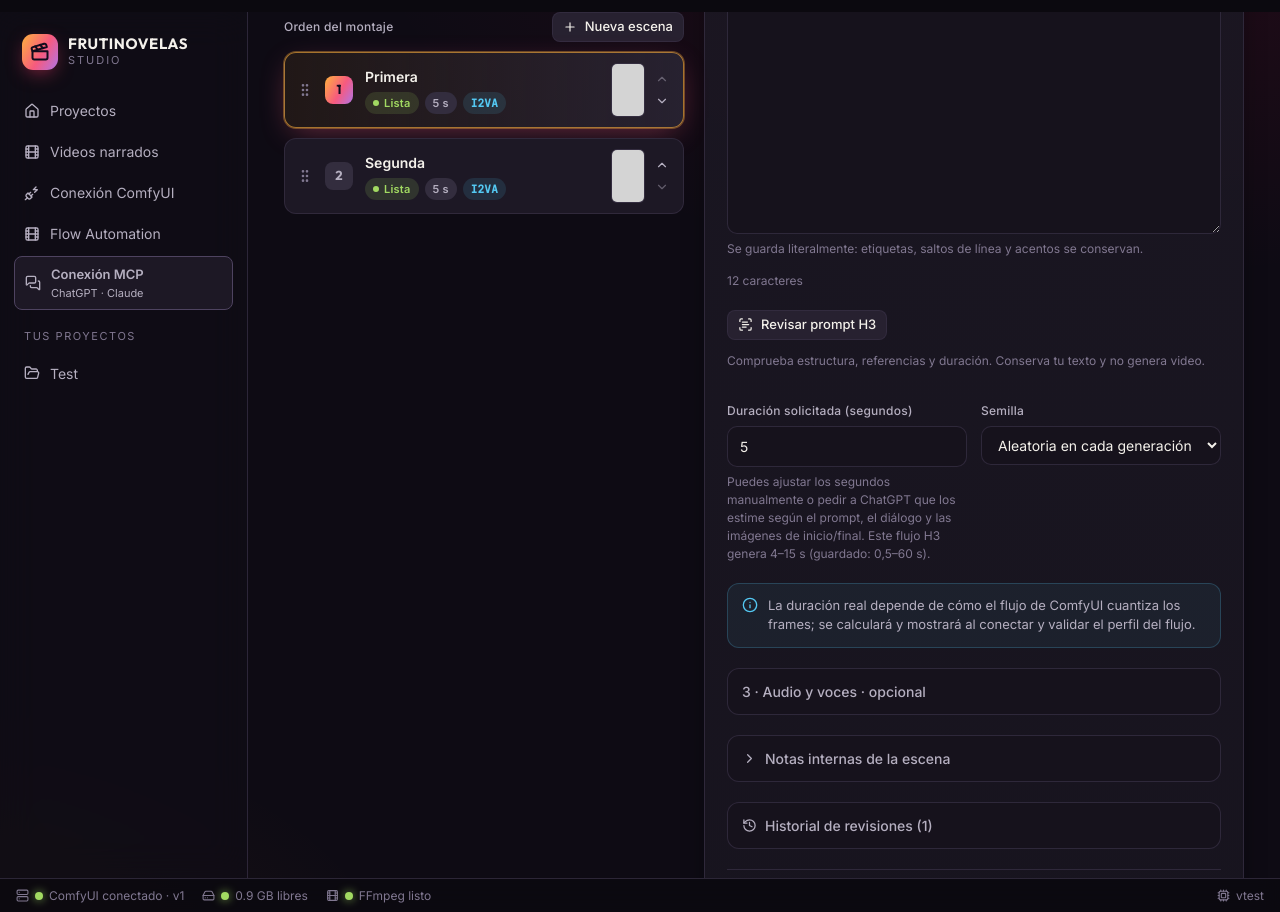
fixed seeds exceeding integer precision cannot be saved
(page scrolled)
Expected: the text box showing "Original uno" is shown, top-left (727, 12), bottom-right (1221, 234)
Select "Fija" in the dropdown labelled "Semilla": (1101, 445) top-left (981, 426), bottom-right (1221, 465)
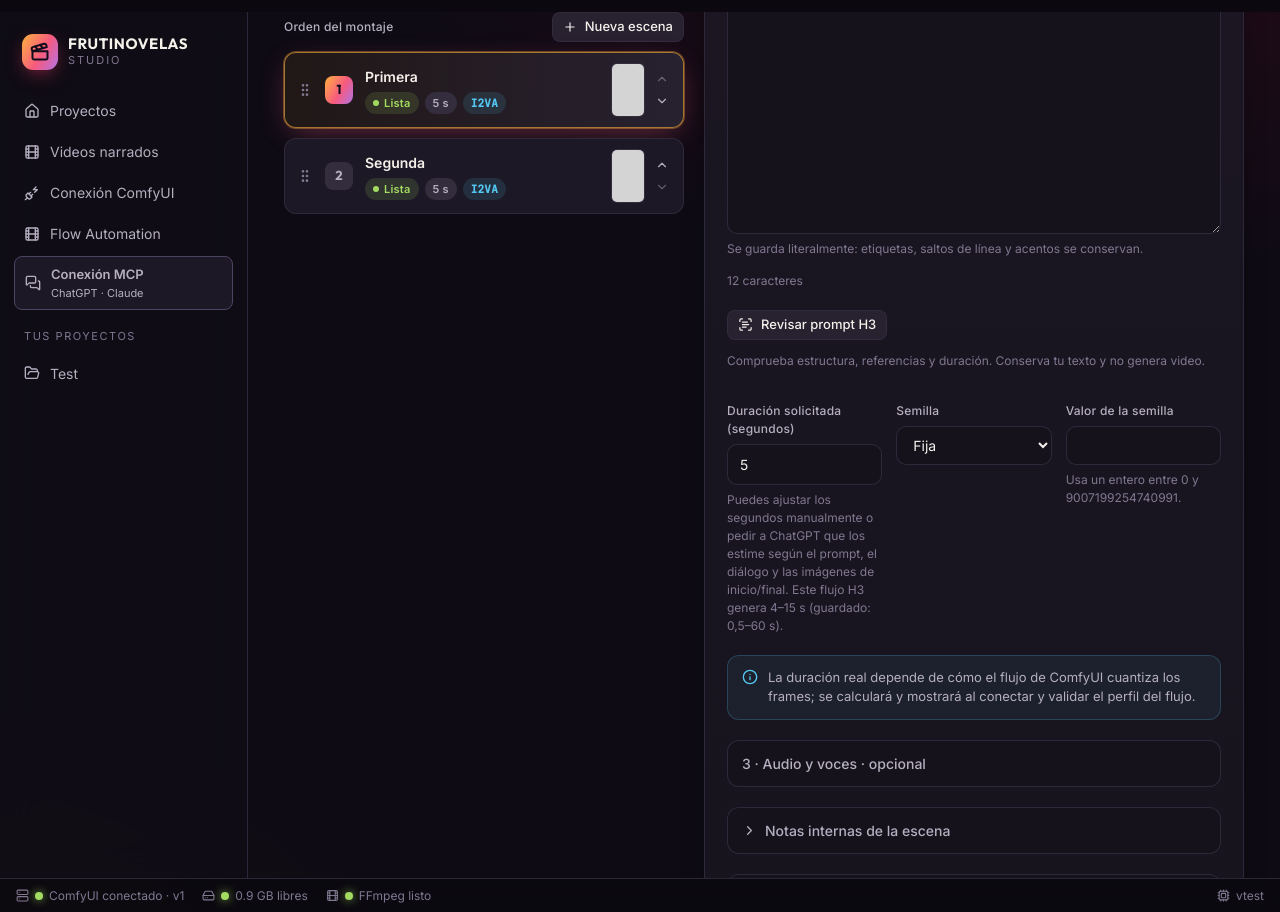
In the field labelled "Valor de la semilla": (1143, 445) top-left (1066, 426), bottom-right (1221, 465), type "9007199254740992"
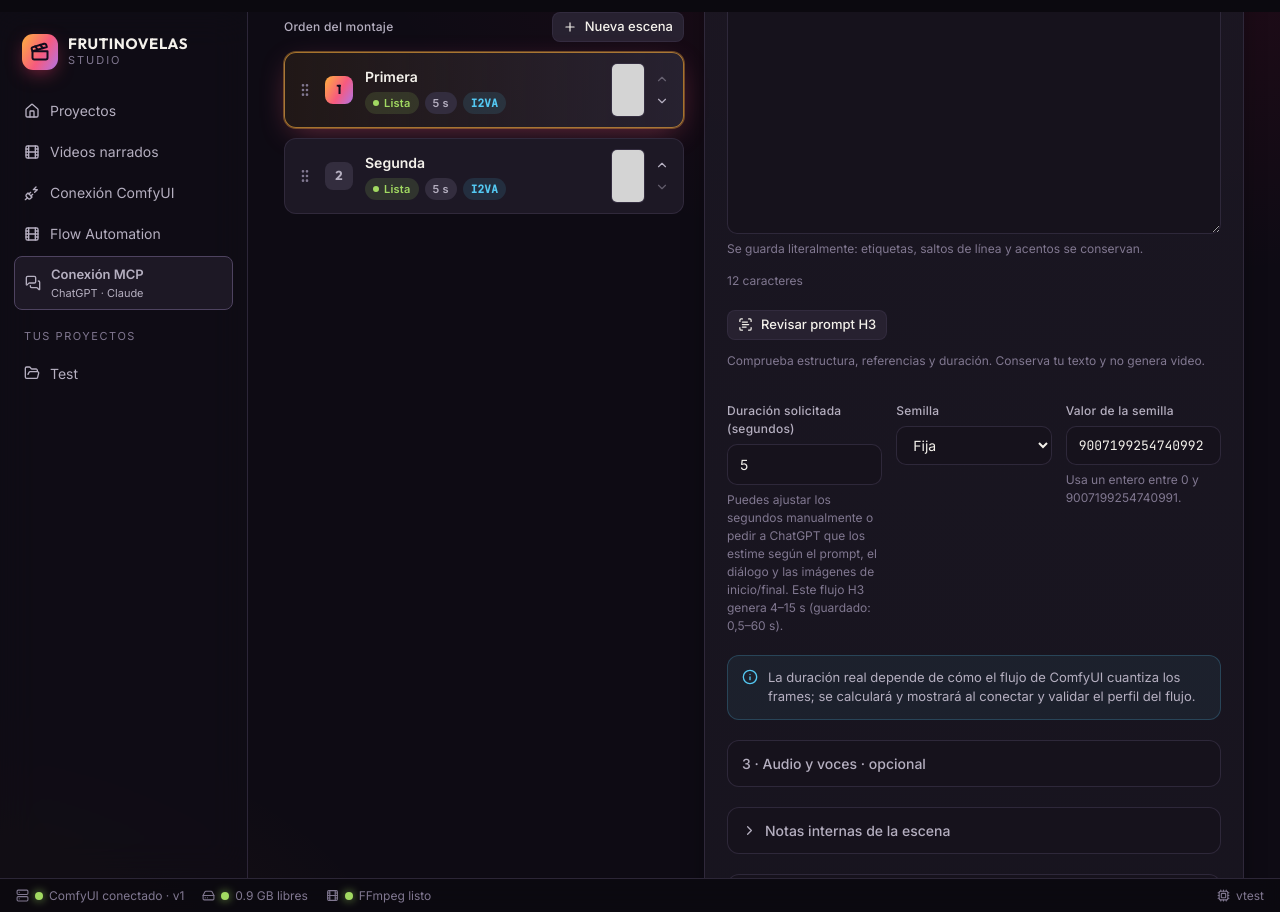
Replace the text in the field labelled "Valor de la semilla" with "9007199254740991": (1143, 445) top-left (1066, 426), bottom-right (1221, 465)
(page scrolled)
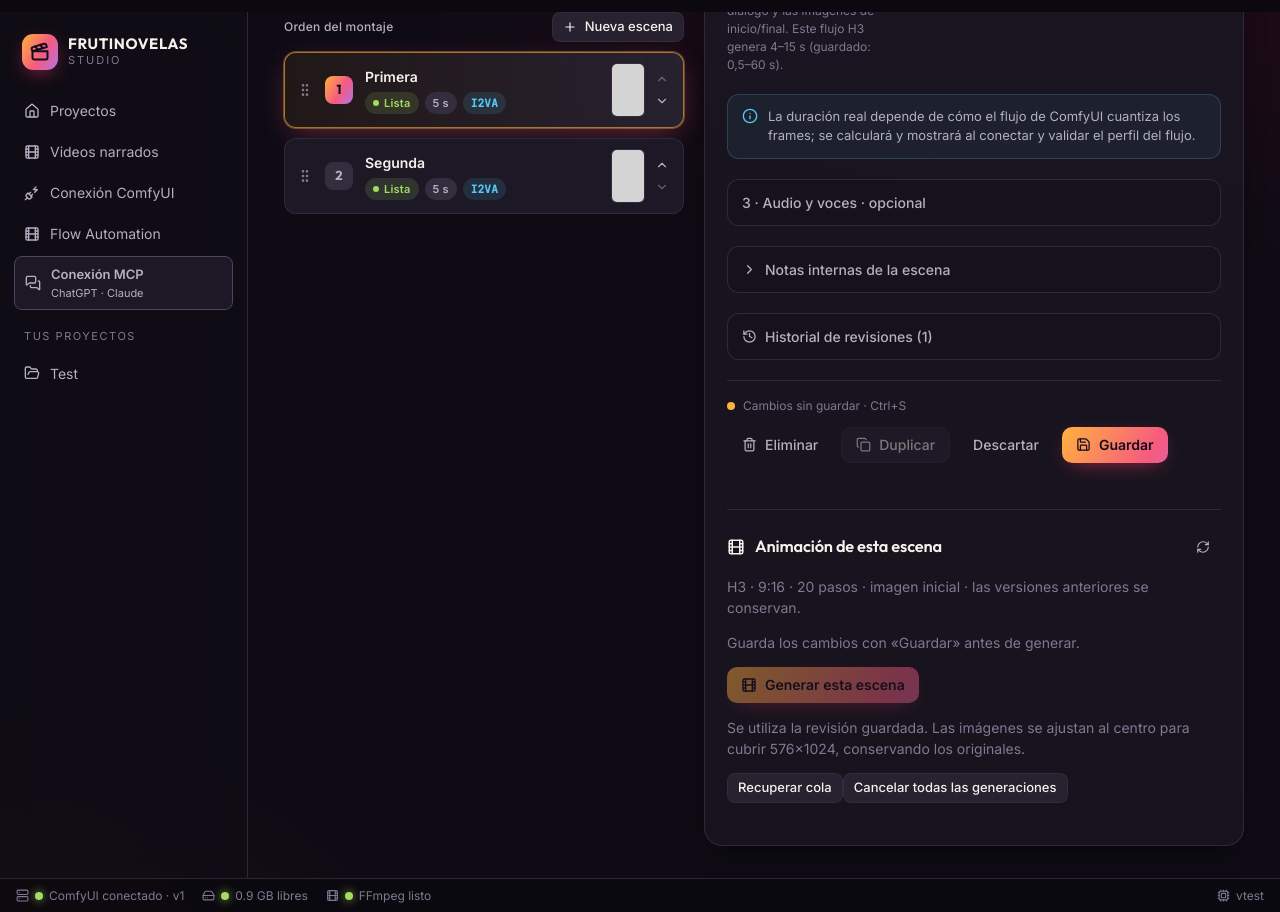
Result: the button with id "btn-save-scene" is enabled at top-left (1062, 427), bottom-right (1168, 463)
